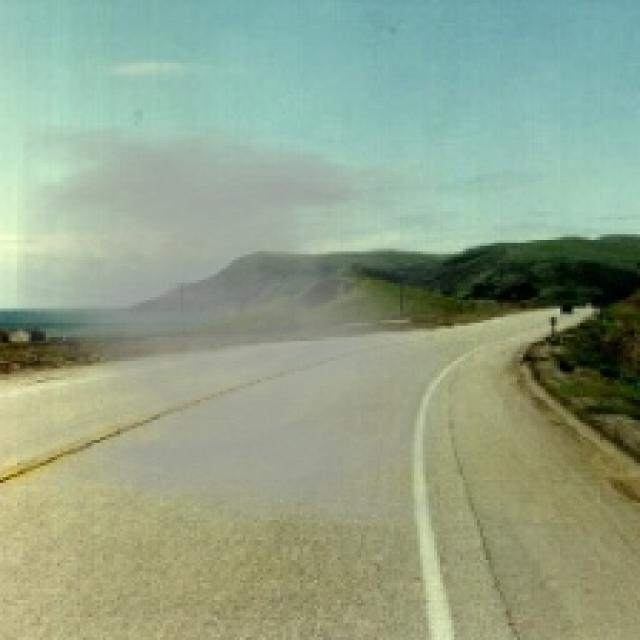Smoke: (17, 123, 443, 526)
